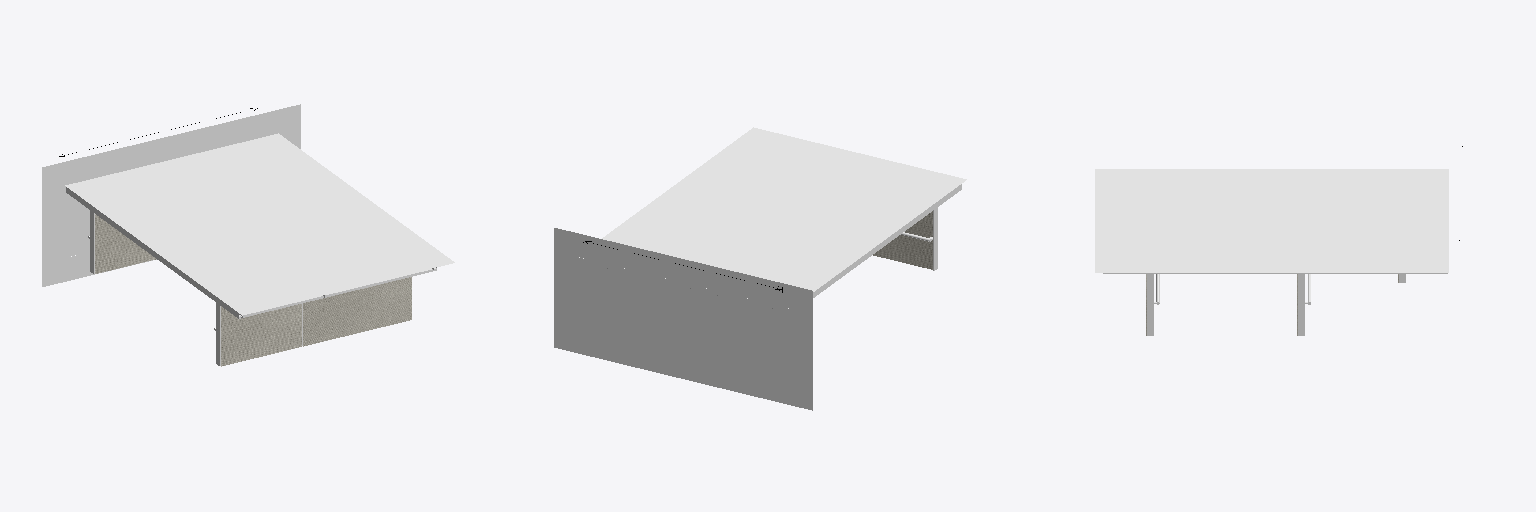
The picture shows the model from 3 angles: view 1: azimuth 30°, elevation 25°; view 2: azimuth 150°, elevation 25°; view 3: azimuth 270°, elevation 25°; orthographic projection.
Visible parts, largest first — view 1: Object_66, Object_67, Object_63, Object_60, Object_73, Object_57, Object_65, Object_2, Object_71; view 2: Object_66, Object_65, Object_71, Object_67, Object_69, Object_73, Object_60, Object_2; view 3: Object_66.
Part boxes in pixels (left/top/right/bottom): Object_66: left=65, top=133, right=454, bottom=314; Object_67: left=42, top=104, right=300, bottom=184; Object_63: left=303, top=277, right=411, bottom=346; Object_60: left=221, top=304, right=301, bottom=366; Object_73: left=42, top=168, right=64, bottom=286; Object_57: left=95, top=214, right=155, bottom=273; Object_65: left=65, top=186, right=89, bottom=257; Object_2: left=66, top=187, right=240, bottom=318; Object_71: left=43, top=252, right=156, bottom=286; Object_66: left=579, top=127, right=966, bottom=308; Object_65: left=577, top=257, right=790, bottom=381; Object_71: left=554, top=330, right=812, bottom=410; Object_67: left=555, top=228, right=812, bottom=308; Object_69: left=554, top=228, right=576, bottom=346; Object_73: left=791, top=292, right=812, bottom=409; Object_60: left=873, top=211, right=932, bottom=269; Object_2: left=813, top=184, right=961, bottom=297; Object_66: left=1095, top=169, right=1448, bottom=272.
Bounding box in the file's own units: 2280 × 1034 × 2817.
11 materials, 3 textured.